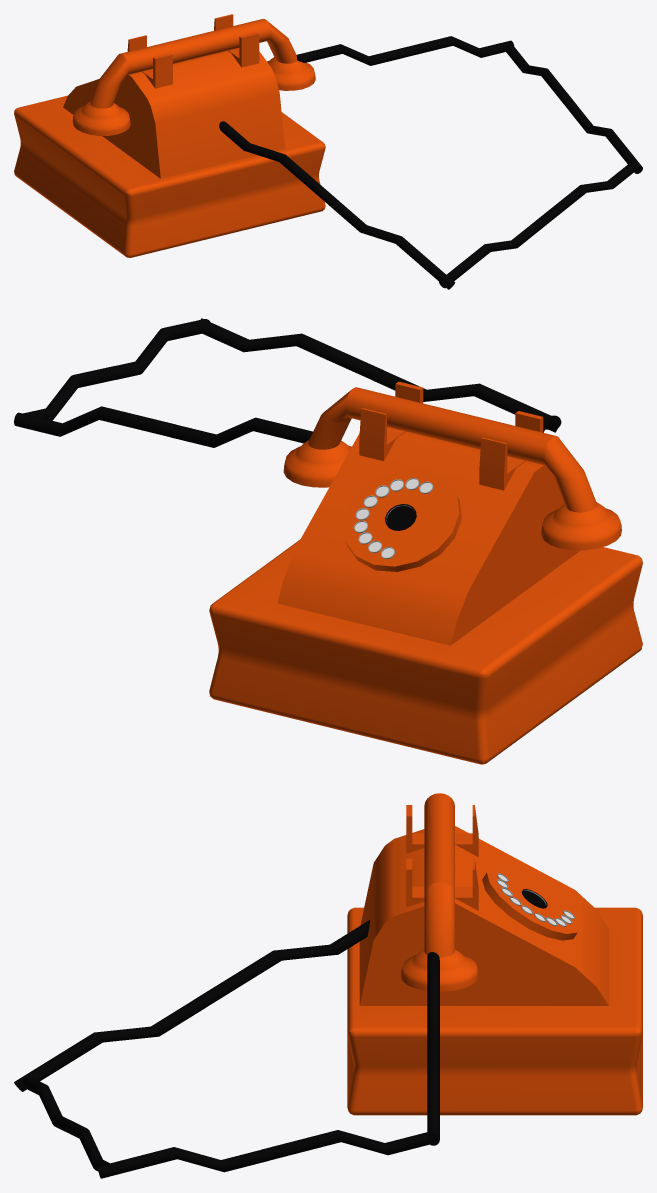
The model's file is rotary_phone_merged.fbx.
3 views of the same model, one above another, from view 1: azimuth 30°, elevation 25°; view 2: azimuth 150°, elevation 25°; view 3: azimuth 270°, elevation 25° (orthographic). The views are drawn at different scales.
Visible parts, largest first — view 1: rotary_phone_merged; view 2: rotary_phone_merged; view 3: rotary_phone_merged.
Part boxes in pixels (x1,y1,x2,y2): rotary_phone_merged: [14, 14, 642, 289]; rotary_phone_merged: [14, 318, 642, 764]; rotary_phone_merged: [14, 793, 642, 1178].
Size of the model in its own units: 50.15 by 19.12 by 49.56.
